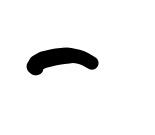minus: (25, 48, 99, 75)
